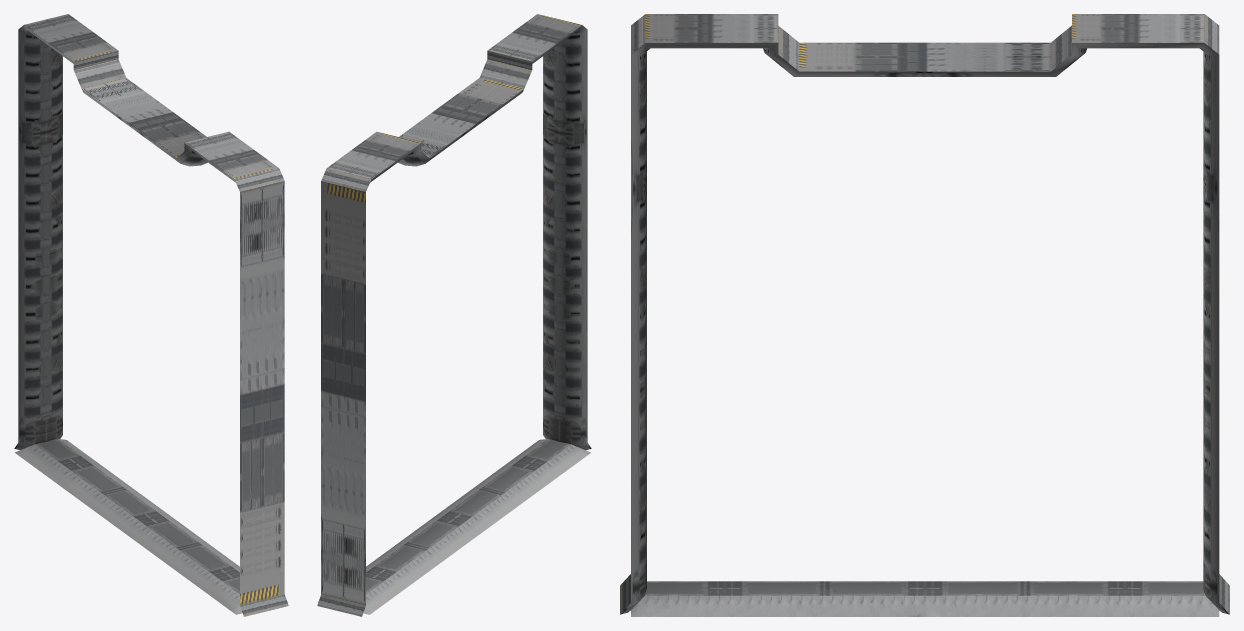
File: SM_GateSupportEx.fbx
3 renders of one model, left to right at view 1: azimuth 30°, elevation 25°; view 2: azimuth 150°, elevation 25°; view 3: azimuth 270°, elevation 25°, orthographic. The views are drawn at different scales.
Visible parts, largest first — view 1: SM_GateSupportEx_LOD0; view 2: SM_GateSupportEx_LOD0; view 3: SM_GateSupportEx_LOD0.
Boxes of the visible parts, left/top/right/bottom form: SM_GateSupportEx_LOD0: left=14, top=14, right=288, bottom=616; SM_GateSupportEx_LOD0: left=317, top=14, right=591, bottom=616; SM_GateSupportEx_LOD0: left=620, top=14, right=1229, bottom=616.
Size of the model in its own units: 40 by 305 by 315.
1 material, 1 textured.
